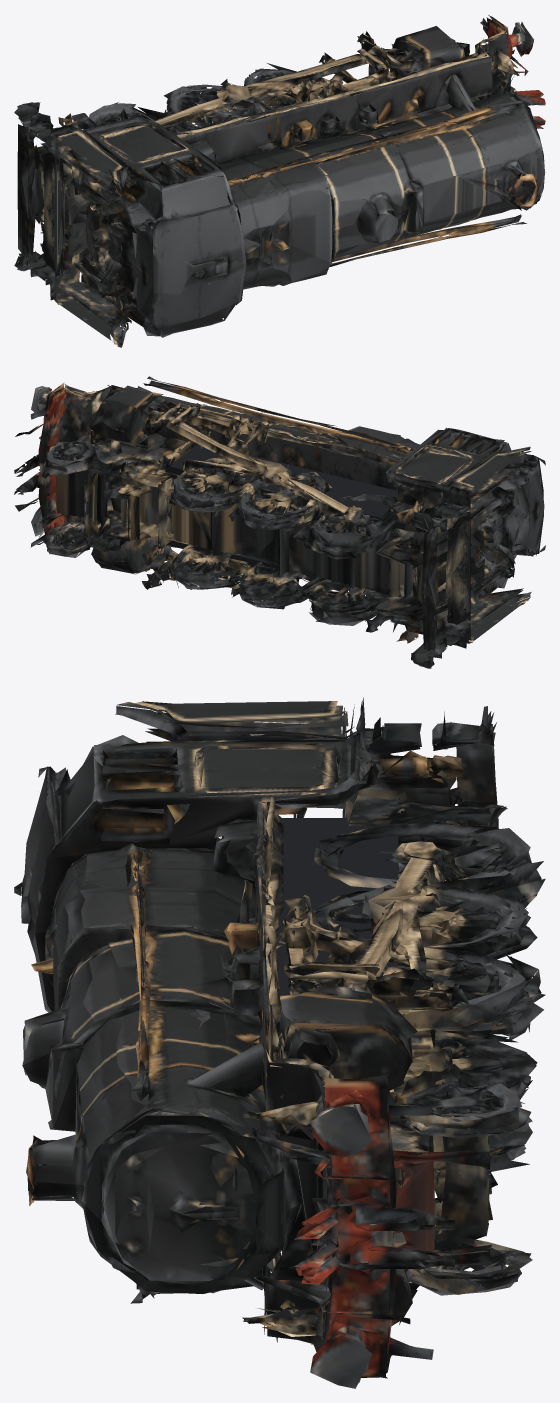
The model's file is black_five_engine_r025.glb.
3 views of the same model, one above another, from view 1: azimuth 30°, elevation 25°; view 2: azimuth 150°, elevation 25°; view 3: azimuth 270°, elevation 25° (orthographic). The views are drawn at different scales.
Parts seen in each view (by area): view 1: part_engine.001; view 2: part_engine.001, skirt_engine.001; view 3: part_engine.001, skirt_engine.001.
Part boxes in pixels (x1,y1,x2,y2): part_engine.001: (14,15,545,347); part_engine.001: (14,376,545,668); skirt_engine.001: (165,444,439,596); part_engine.001: (14,697,545,1388); skirt_engine.001: (277,818,397,1057).
Bounding box in the file's own units: 7.62 × 2.8 × 4.19.
2 materials, 1 textured.
